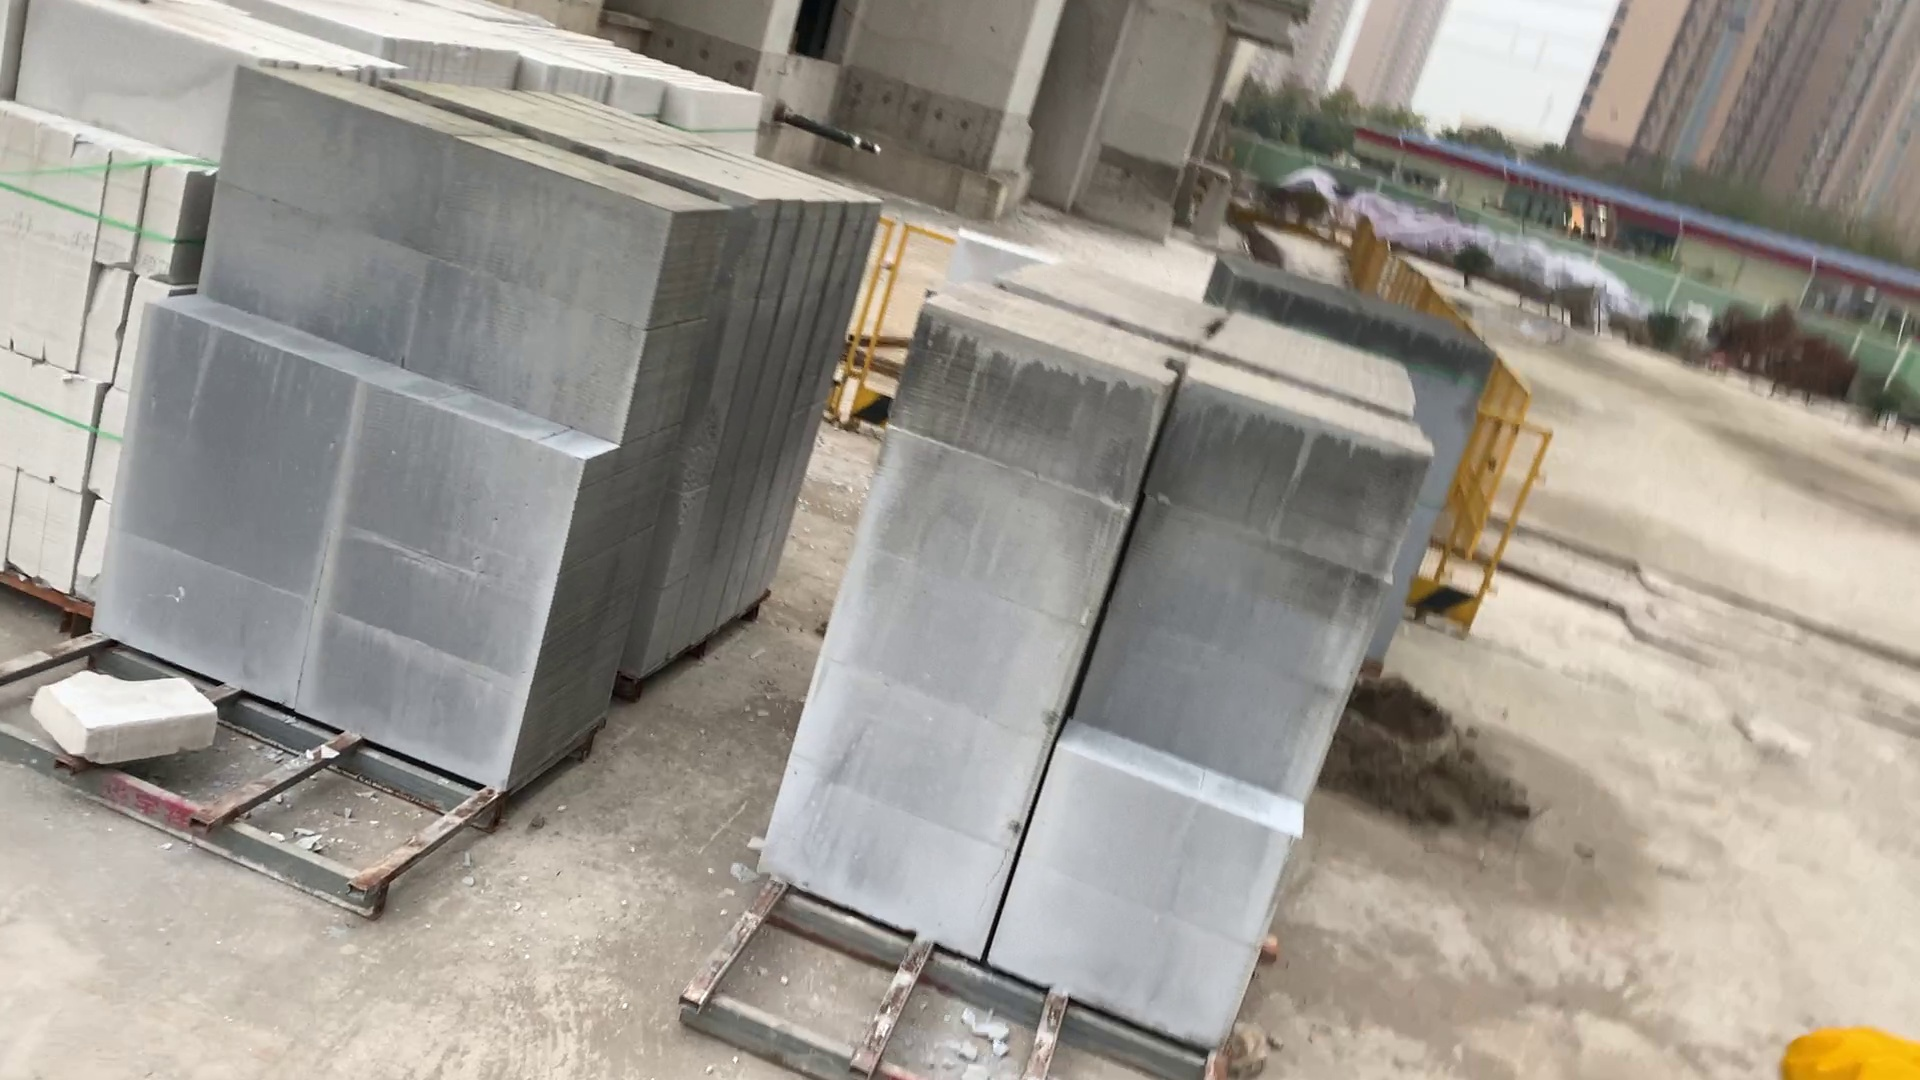brickwork: (127, 73, 861, 785), (761, 268, 1416, 1046), (3, 4, 196, 597), (1216, 243, 1502, 452)
